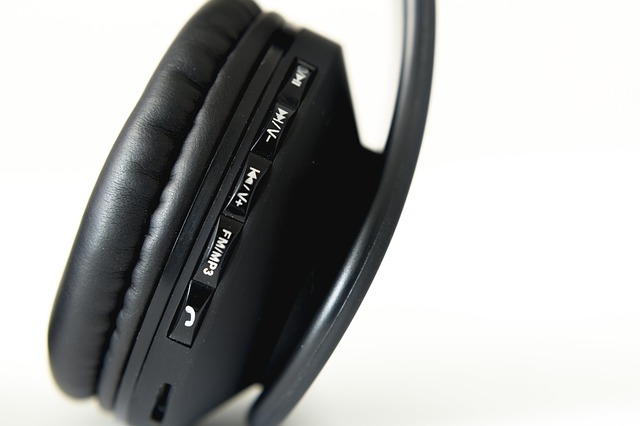headphones: (48, 1, 436, 426)
